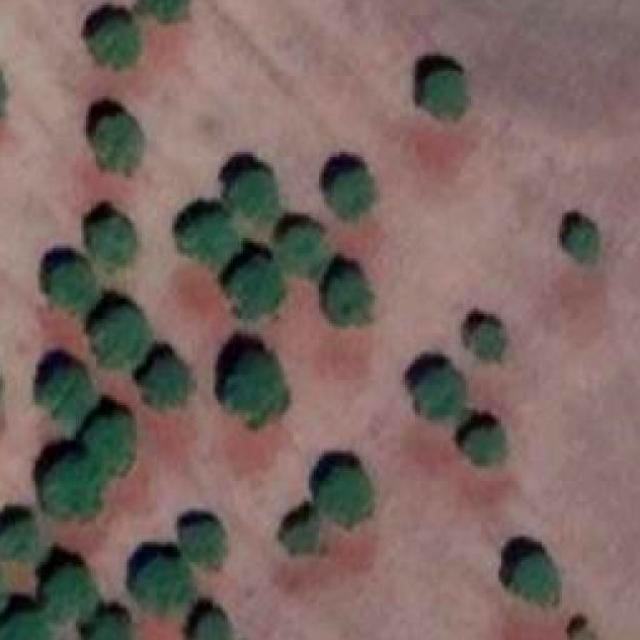Tree: (235, 348, 283, 422), (43, 456, 101, 516), (94, 306, 150, 368), (140, 557, 193, 621), (93, 114, 142, 176), (185, 211, 239, 266), (46, 560, 99, 616), (413, 362, 464, 420), (233, 260, 281, 319), (91, 408, 135, 472), (324, 460, 368, 524), (231, 165, 281, 221), (277, 226, 327, 281), (88, 213, 137, 268), (147, 349, 195, 405), (327, 167, 378, 218), (329, 268, 375, 322), (511, 547, 557, 600), (49, 258, 94, 312), (39, 370, 89, 418), (88, 20, 137, 66), (427, 71, 466, 124), (473, 420, 511, 464), (192, 522, 226, 570), (0, 609, 47, 640), (194, 604, 232, 640), (565, 225, 601, 263), (0, 521, 35, 560), (284, 516, 319, 555), (469, 319, 504, 357), (131, 0, 187, 23), (96, 612, 136, 640), (0, 60, 10, 121)
